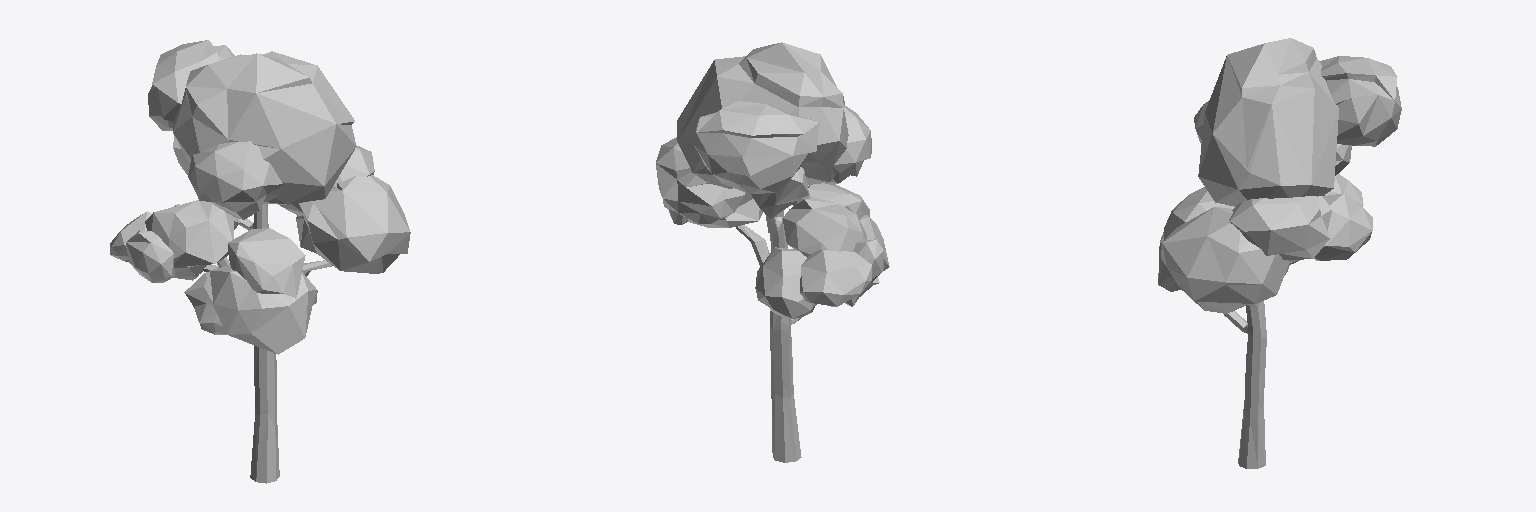
The model's file is Tree2.obj.
3 views of the same model, side by side, from view 1: azimuth 30°, elevation 25°; view 2: azimuth 150°, elevation 25°; view 3: azimuth 270°, elevation 25° (orthographic).
Parts seen in each view (by area): view 1: PP_Birch_Tree_05.002; view 2: PP_Birch_Tree_05.002; view 3: PP_Birch_Tree_05.002.
Boxes of the visible parts, <box> form: PP_Birch_Tree_05.002: <box>110,40,410,483</box>; PP_Birch_Tree_05.002: <box>656,42,889,462</box>; PP_Birch_Tree_05.002: <box>1158,38,1401,468</box>.
Size of the model in its own units: 4.99 by 8.25 by 4.34.